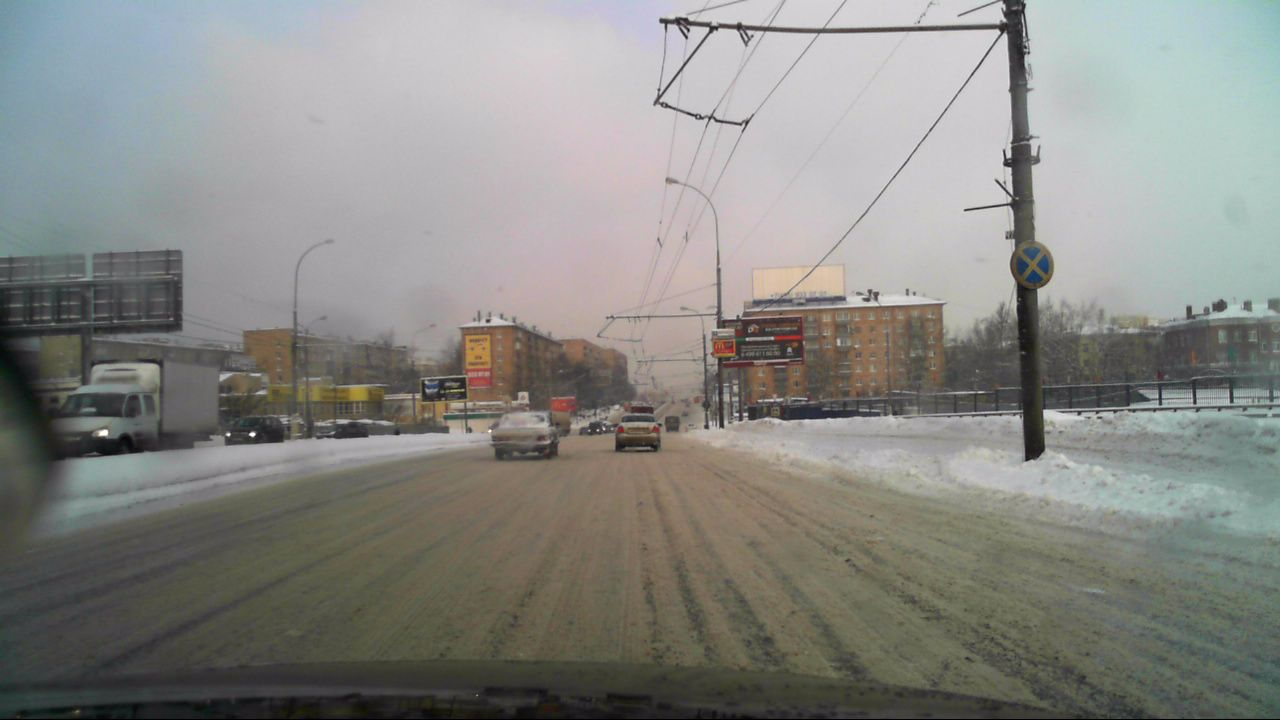No Parking: (1011, 236, 1060, 290)
